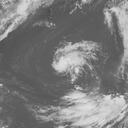cyclone: (50, 40, 101, 82)
